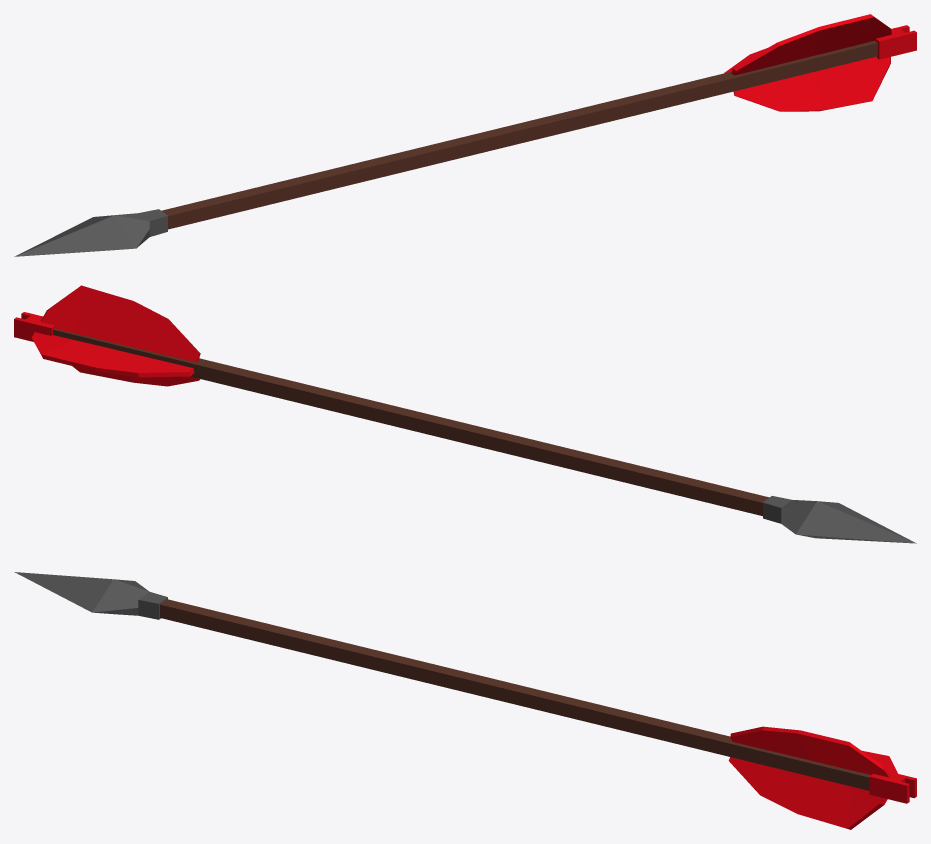
Rendered from ArrowPrefab.fbx.
3 renders of one model, top to bottom at view 1: azimuth 30°, elevation 25°; view 2: azimuth 150°, elevation 25°; view 3: azimuth 330°, elevation 25°, orthographic.
Parts seen in each view (by area): view 1: Cube; view 2: Cube; view 3: Cube.
Part boxes in pixels (<box>): Cube: <box>14,14,916,256</box>; Cube: <box>14,285,916,543</box>; Cube: <box>14,572,916,829</box>.
Size of the model in its own units: 2115 by 197 by 203.
